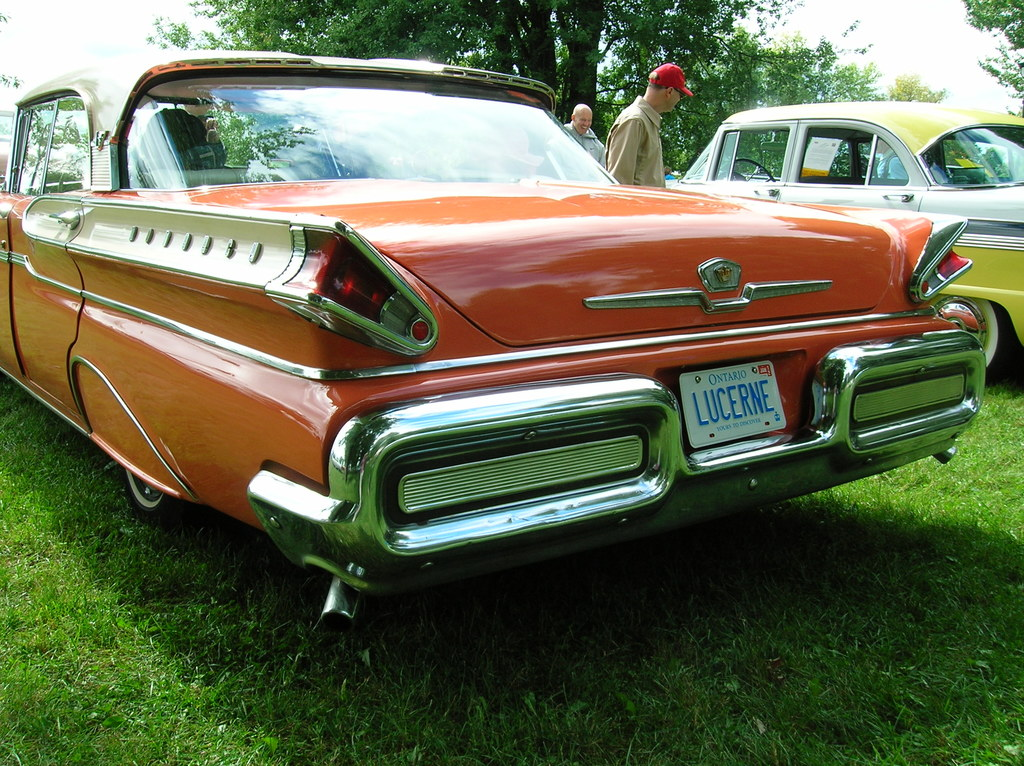Car: (0, 50, 986, 632), (666, 101, 1024, 382)
